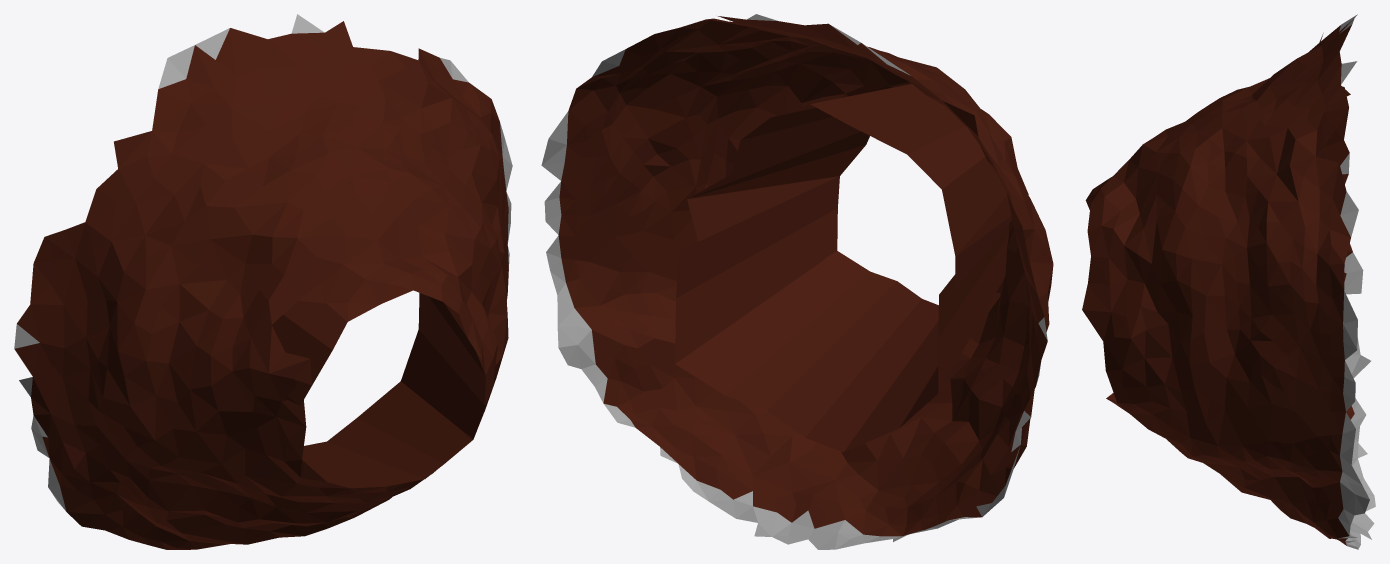
3 views of the same model, side by side, from view 1: azimuth 30°, elevation 25°; view 2: azimuth 150°, elevation 25°; view 3: azimuth 270°, elevation 25° (orthographic). The views are drawn at different scales.
Parts seen in each view (by area): view 1: Cone.047; view 2: Cone.047; view 3: Cone.047.
Boxes of the visible parts, x1,y1,x2,y2 form: Cone.047: [14, 14, 512, 549]; Cone.047: [541, 14, 1053, 549]; Cone.047: [1082, 14, 1375, 549].
Bounding box in the file's own units: 12.02 × 11.91 × 6.51.
